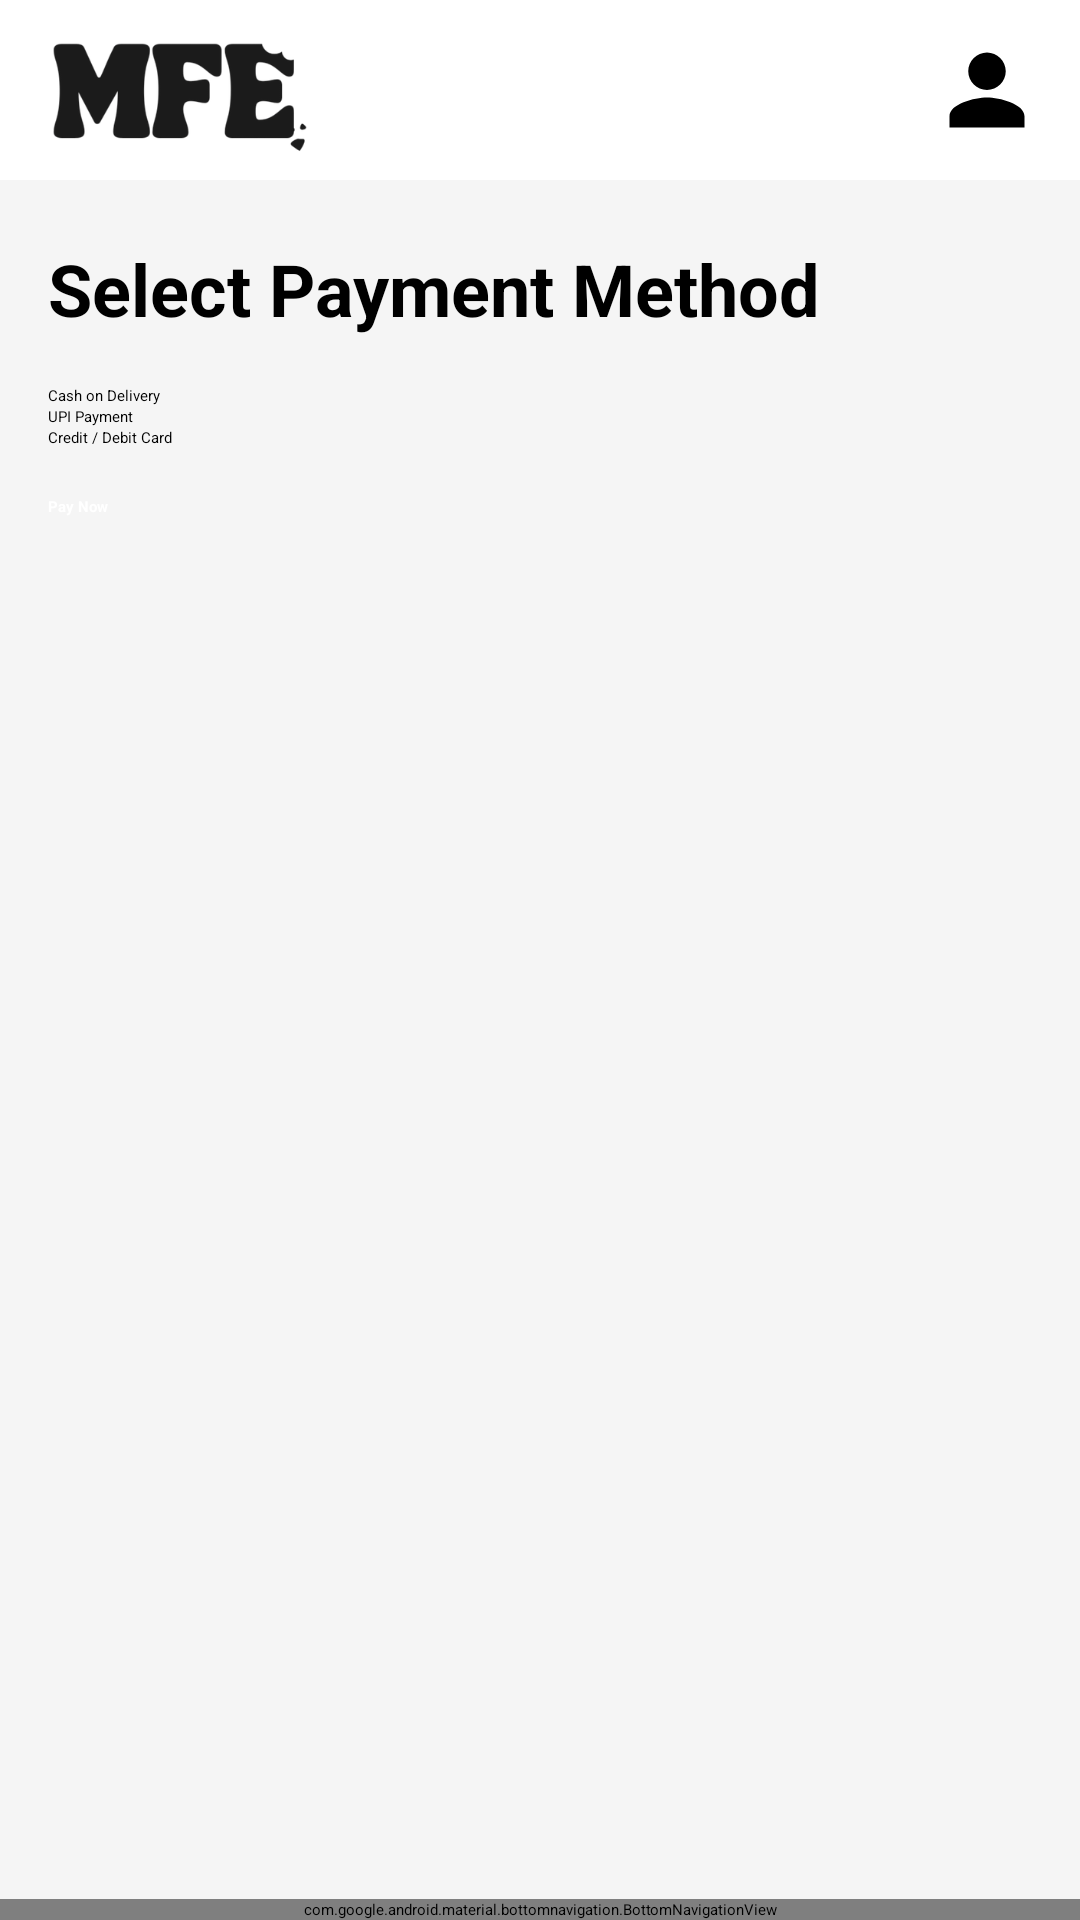

Icon bounding boxes for this 1080*1920 phone screenshot, format (left=x1, top=y1, right=x2, bottom=y2):
profile: (left=949, top=52, right=1025, bottom=128)
